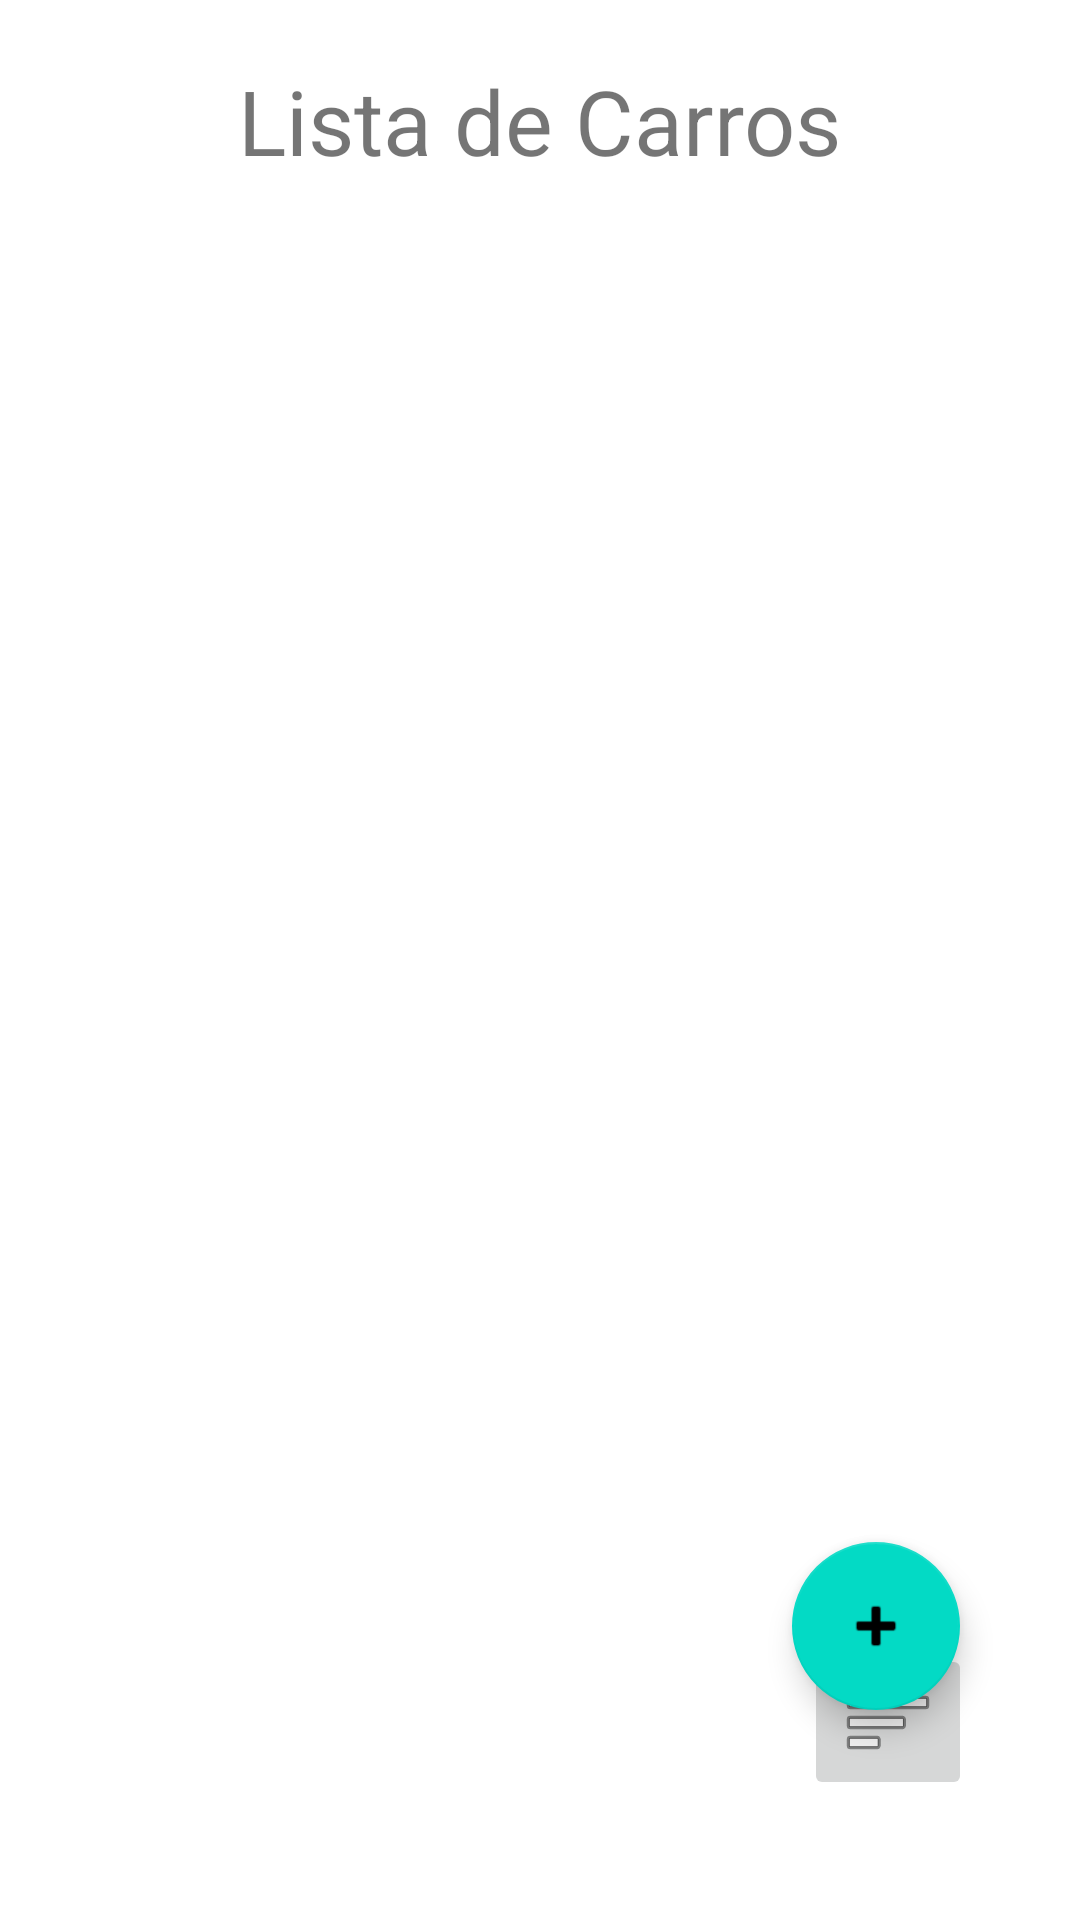

Icon click points for this 1080x1920 phone screenshot, format (x=x, y=y):
add: (x=876, y=1626)
